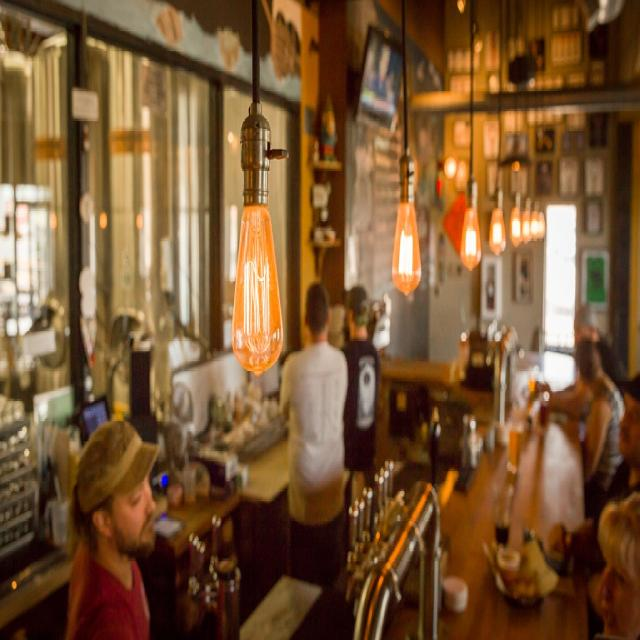body: (276, 279, 352, 602), (64, 414, 160, 639), (580, 369, 640, 639), (534, 298, 626, 418), (575, 336, 629, 534), (340, 282, 380, 478), (116, 283, 202, 358), (355, 31, 417, 133), (486, 268, 496, 321)
